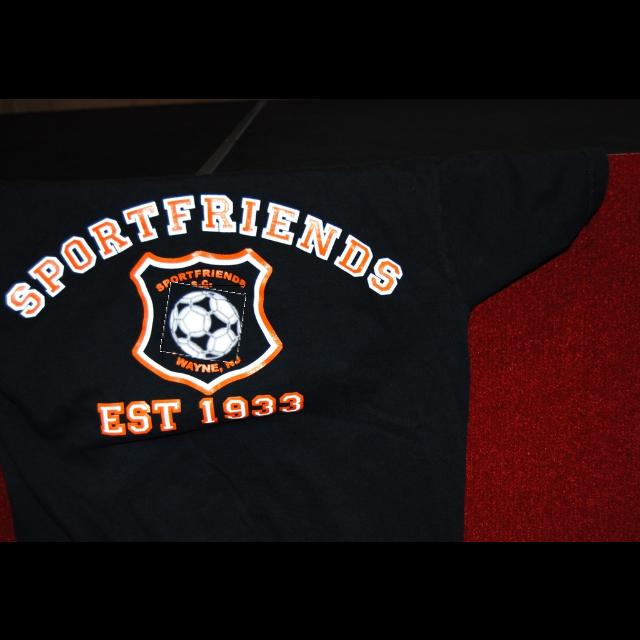Football: (162, 285, 244, 361)
